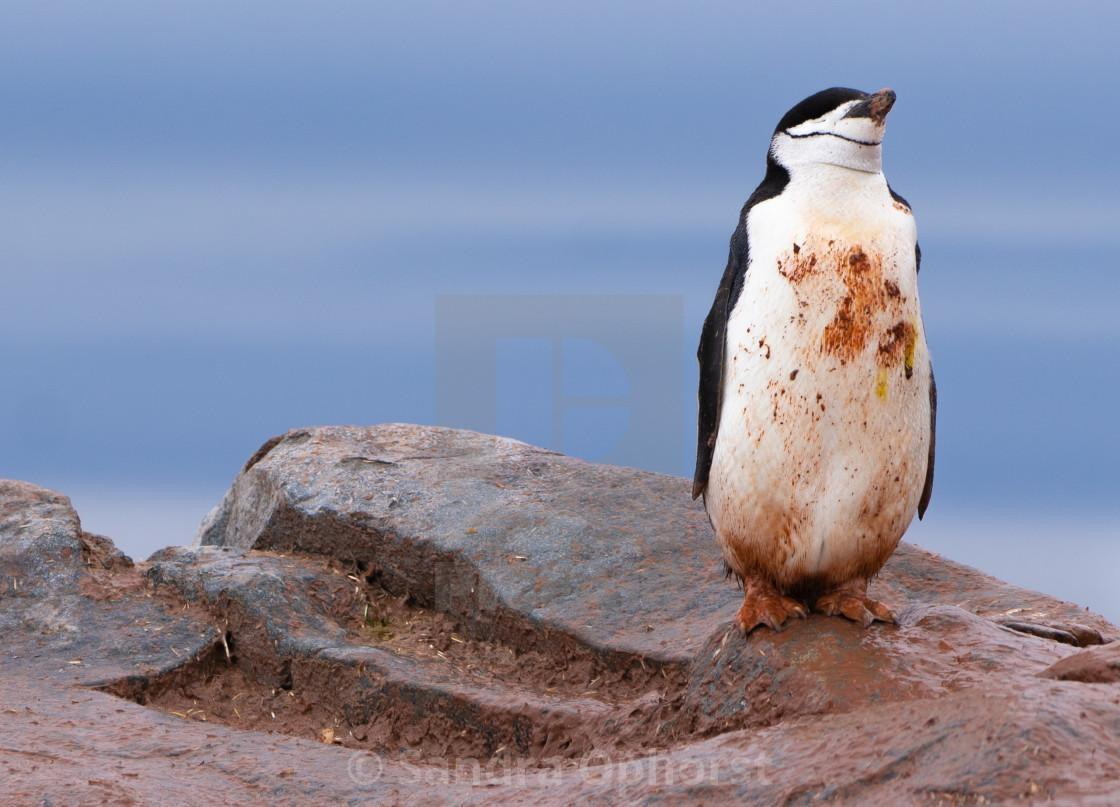Penguin: (692, 88, 936, 634)
